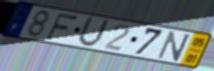2: (103, 24, 131, 52)
7: (132, 27, 166, 57)
8: (26, 9, 51, 39)
F: (44, 12, 81, 41)
N: (155, 31, 192, 63)
U: (75, 15, 112, 49)
